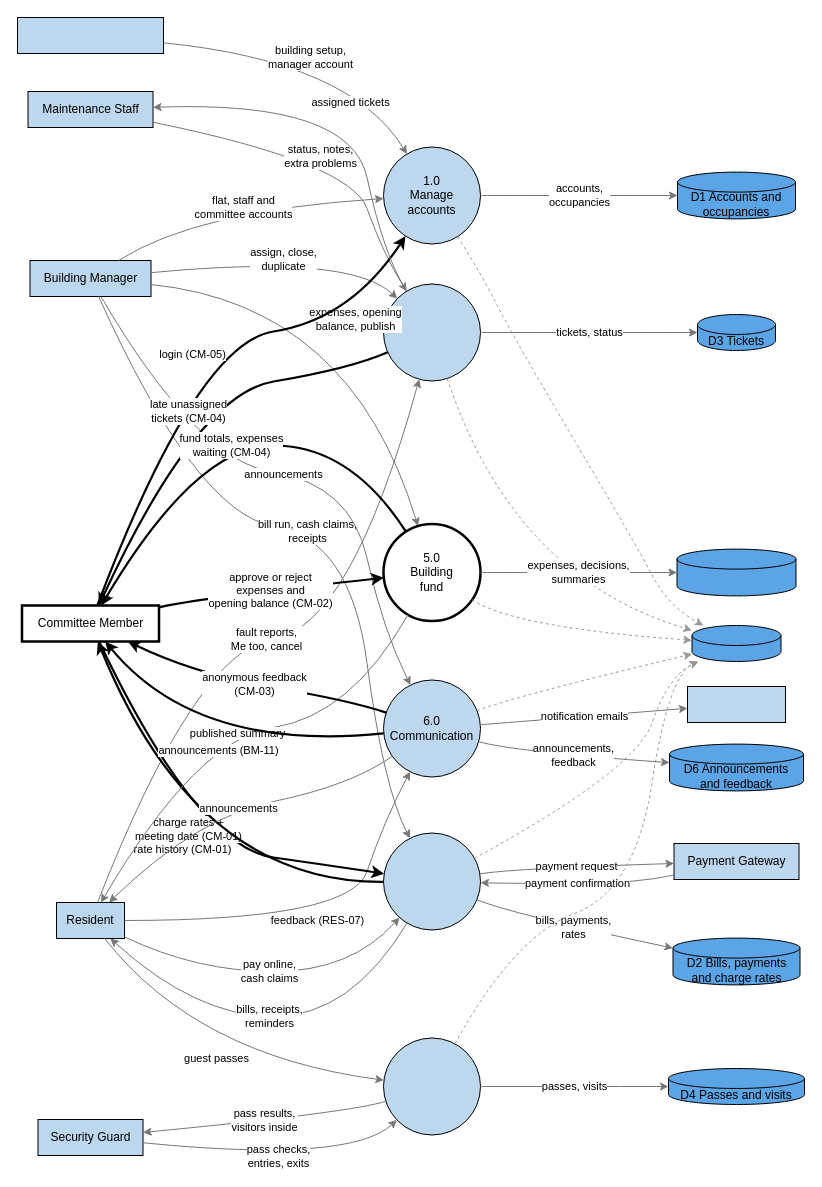
Image size: 822x1187. Some labels were removed from this diagram. The box of each missing label's shape, as (x1, y1, x2, y2) in pixels:
2.0 Billing and payments: (382, 832, 480, 930)
3.0 Fault tickets: (382, 283, 480, 381)
4.0 Gate and guests: (382, 1037, 480, 1135)
D5 Expenses and fund summaries: (676, 548, 796, 596)
D7 Audit log: (691, 624, 781, 662)
Email Service: (686, 686, 786, 722)
System Administrator: (16, 16, 164, 54)
